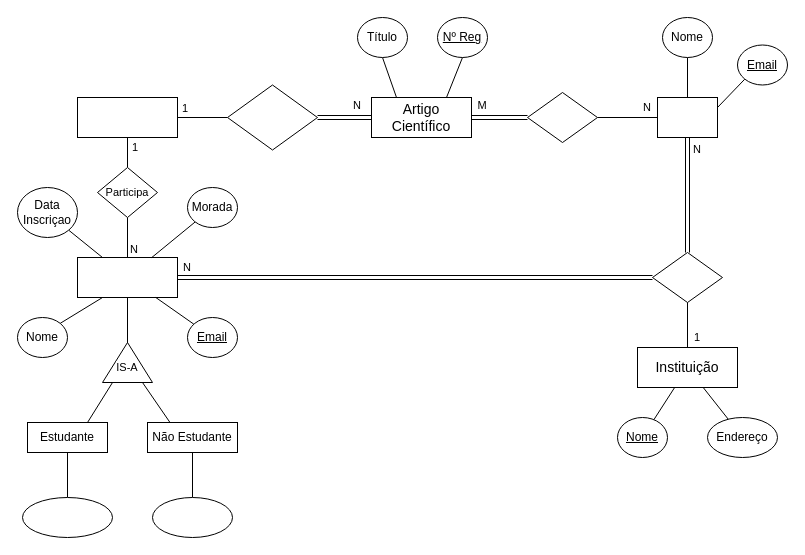
Some shapes in this 805 by 555 pixel diagram are drawn without their labels. Each missing label, with the centre of its shape:
"Autor" goes at (687,117).
"Comprovativo" goes at (67,517).
"Conferência" goes at (127,117).
"Escrito por" goes at (562,117).
"Participantes" goes at (127,277).
"Pertence" goes at (687,277).
"Transação Bancária" goes at (192,517).
"É apresentado" goes at (272,117).
